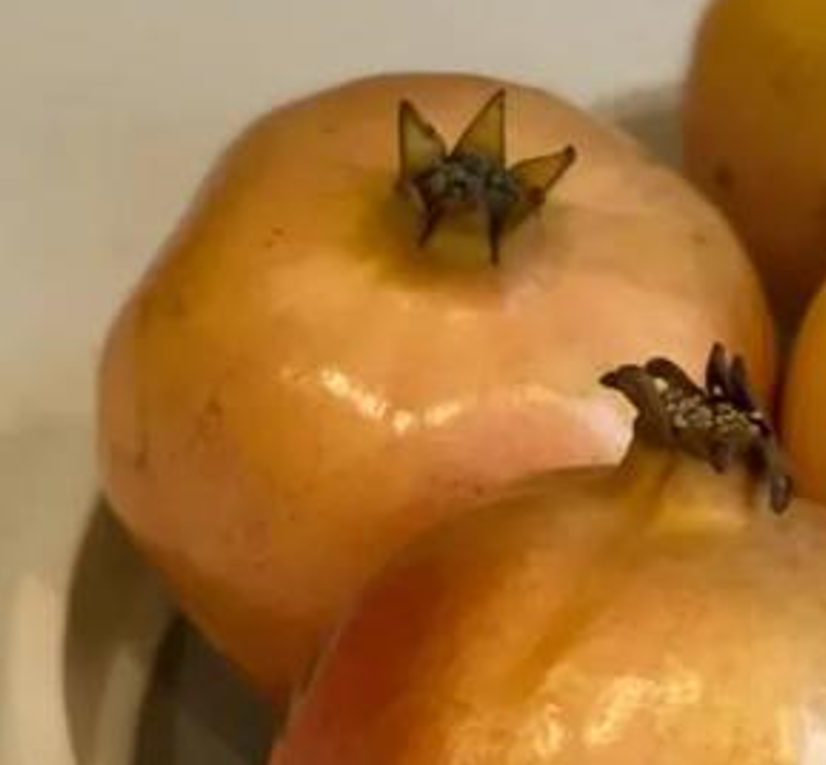pomegranate_B: (94, 74, 782, 707)
